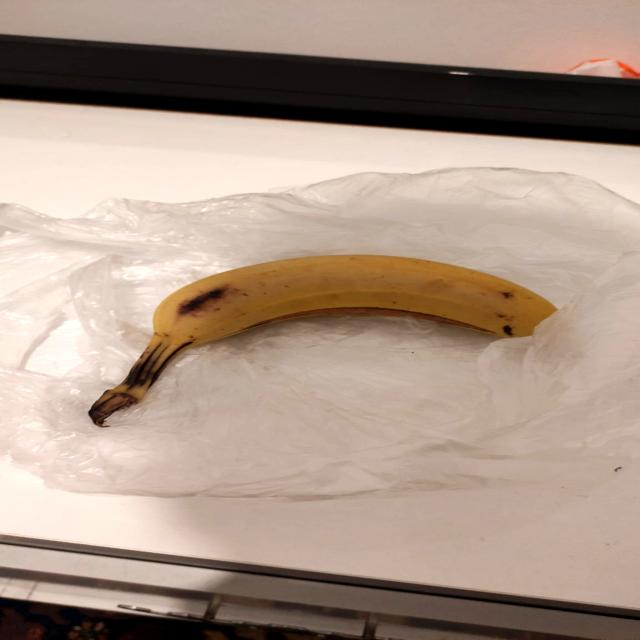banana: (85, 242, 557, 418)
